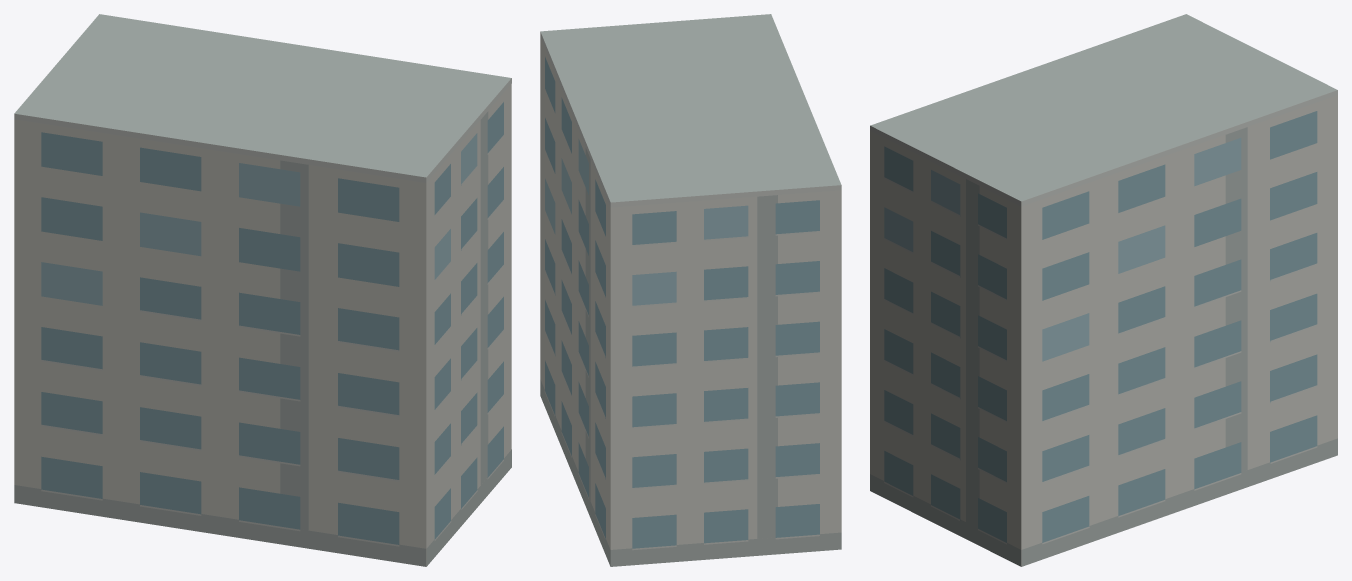
Rendered from survey-upis-33004741.glb.
3 views of the same model, side by side, from view 1: azimuth 30°, elevation 25°; view 2: azimuth 150°, elevation 25°; view 3: azimuth 270°, elevation 25° (orthographic). The views are drawn at different scales.
Visible parts, largest first — view 1: survey-upis-33004741.tmp; view 2: survey-upis-33004741.tmp; view 3: survey-upis-33004741.tmp.
Boxes of the visible parts, x1,y1,x2,y2 form: survey-upis-33004741.tmp: (14, 14, 511, 566); survey-upis-33004741.tmp: (540, 14, 841, 566); survey-upis-33004741.tmp: (870, 14, 1337, 566).
Bounding box in the file's own units: 18.84 × 17.1 × 19.85.
